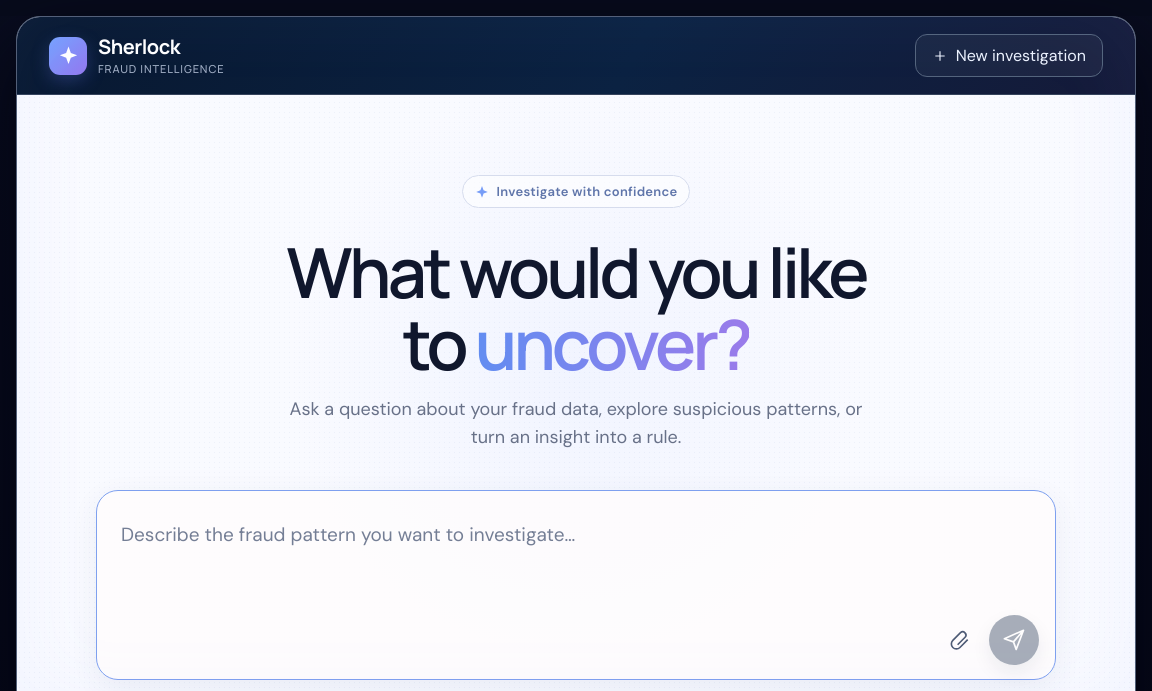
Scenario: Sherlock application › discards an in-flight response when starting a new investigation
Type "Old question" into the text box named "Ask Sherlock" at (511, 589), box [97,499,925,678]
Then press Enter
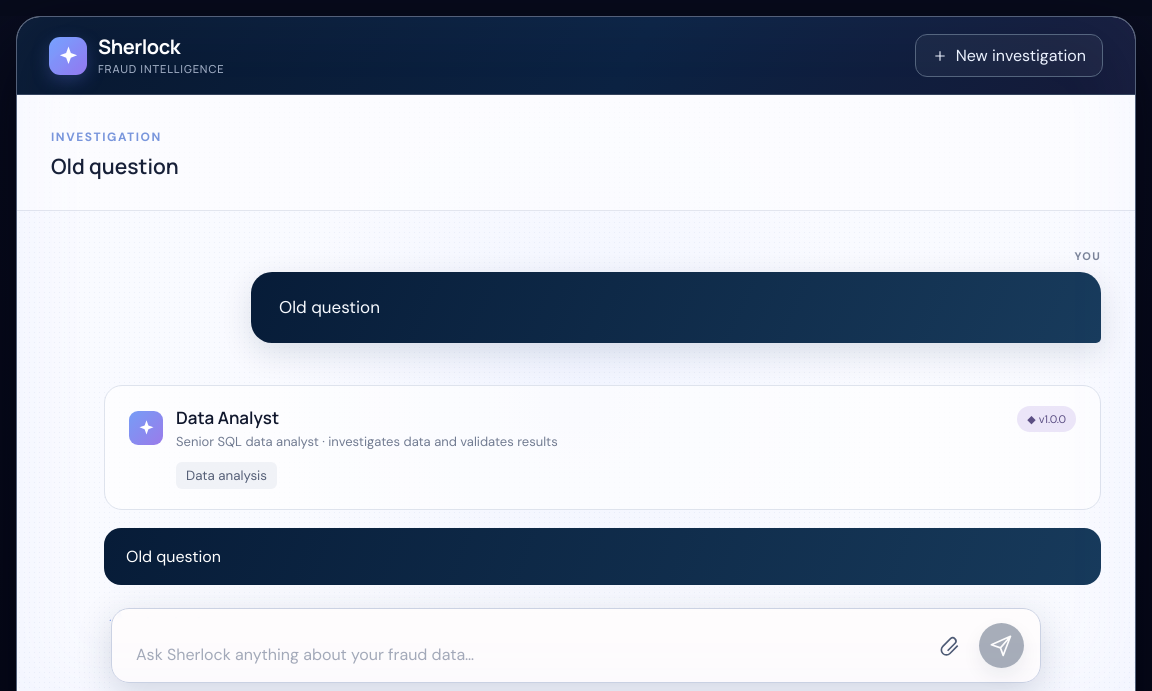
Expected: the message is shown, [104,385,1101,638]
Click the button "New investigation" at (1009, 56), box [915,34,1103,77]
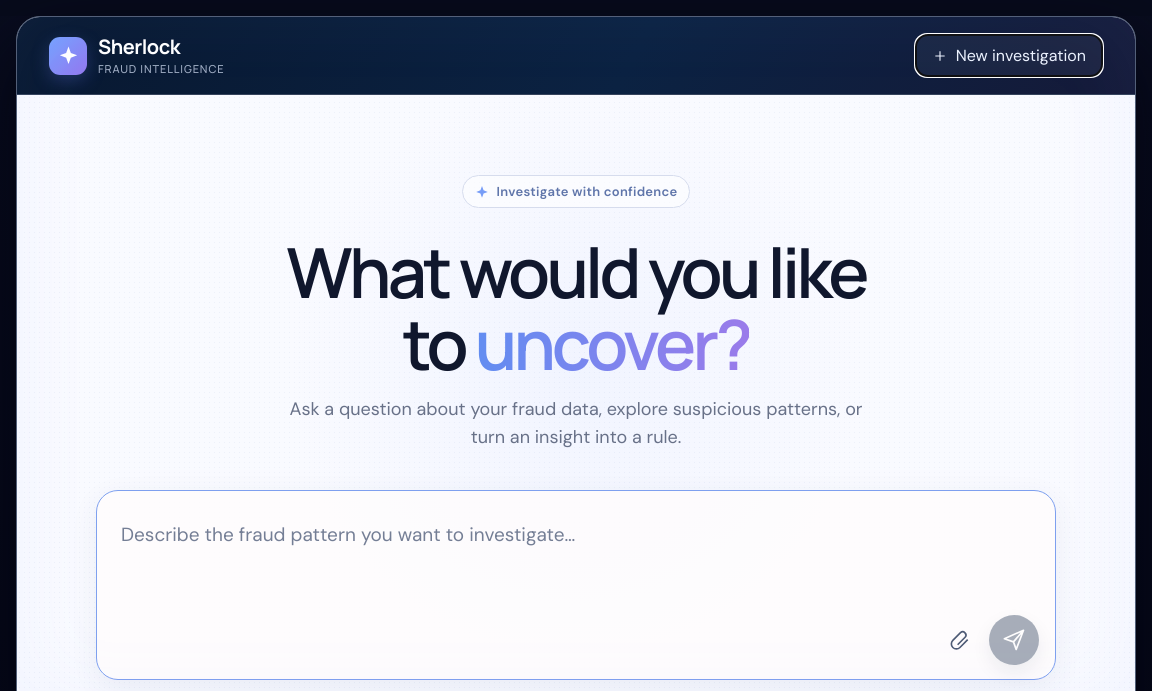
Expected: the heading named "what would you like to uncover" is shown, [286,224,866,391]
Expected: the text box named "Ask Sherlock" is enabled, [97,499,925,678]
